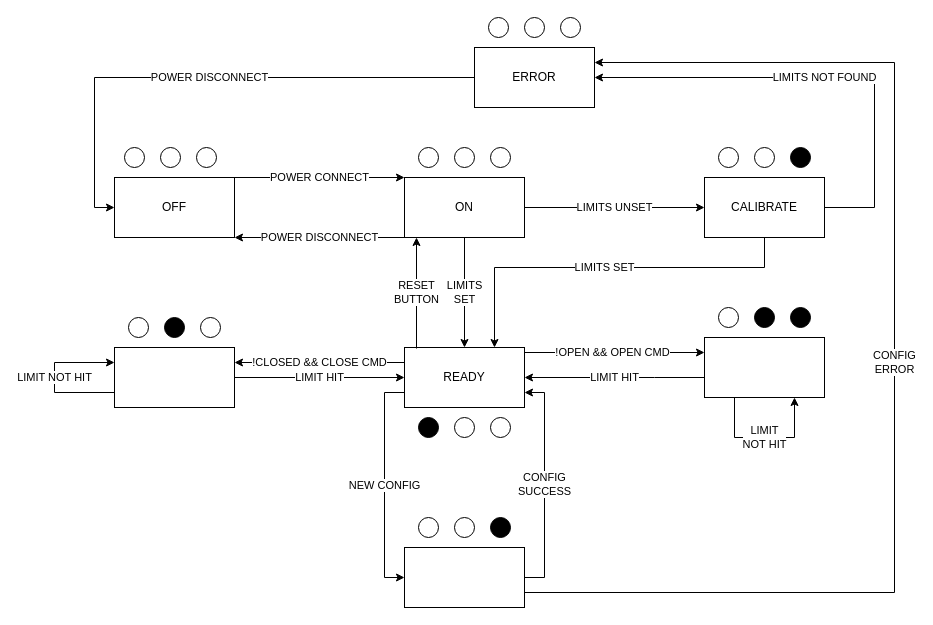
Some shapes in this 933 by 625 pixel diagram are drawn without their labels. Each missing label, with the box of its shape:
CLOSE: (114, 346, 234, 408)
CONFIGURE speed, acceleration, deceleration: (404, 546, 524, 608)
OPEN: (704, 336, 824, 398)
